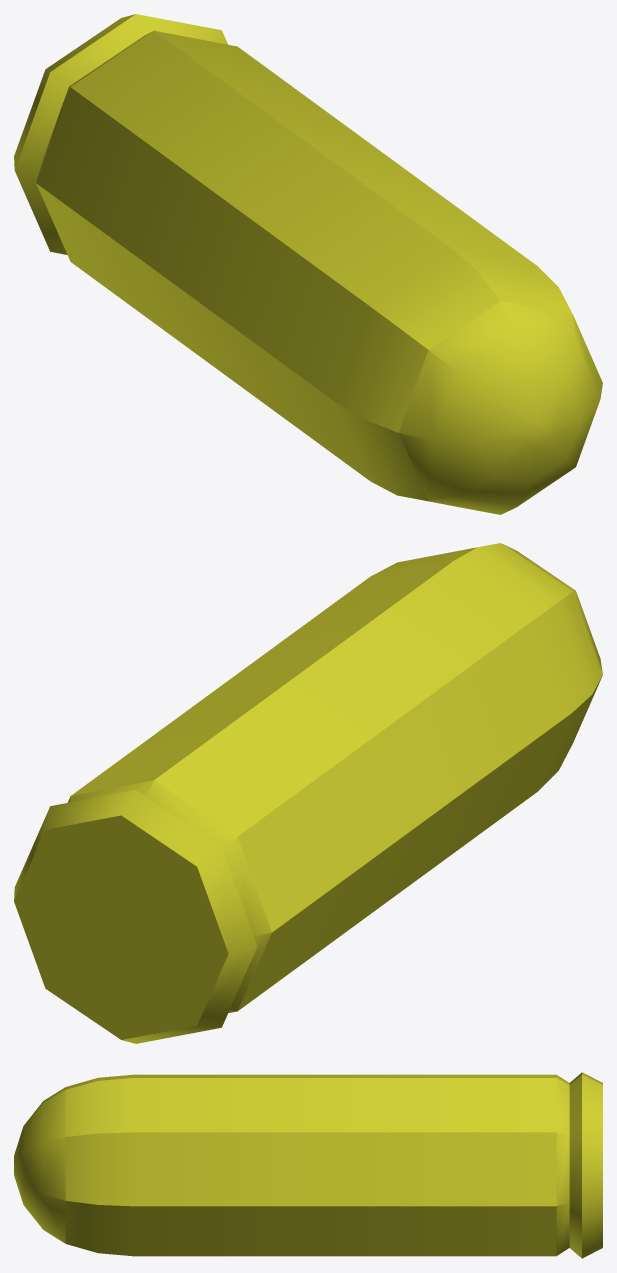
The model's file is BULLET - REVOLVER - COLOR.fbx.
The picture shows the model from 3 angles, top to bottom: view 1: azimuth 30°, elevation 25°; view 2: azimuth 150°, elevation 25°; view 3: azimuth 270°, elevation 25°; orthographic projection. The views are drawn at different scales.
Parts seen in each view (by area): view 1: BULLET - REVOLVER; view 2: BULLET - REVOLVER; view 3: BULLET - REVOLVER.
Boxes of the visible parts, x1,y1,x2,y2 form: BULLET - REVOLVER: (14,14,602,514); BULLET - REVOLVER: (14,543,602,1043); BULLET - REVOLVER: (14,1072,602,1258).
Bounding box in the file's own units: 131 × 131 × 388.
